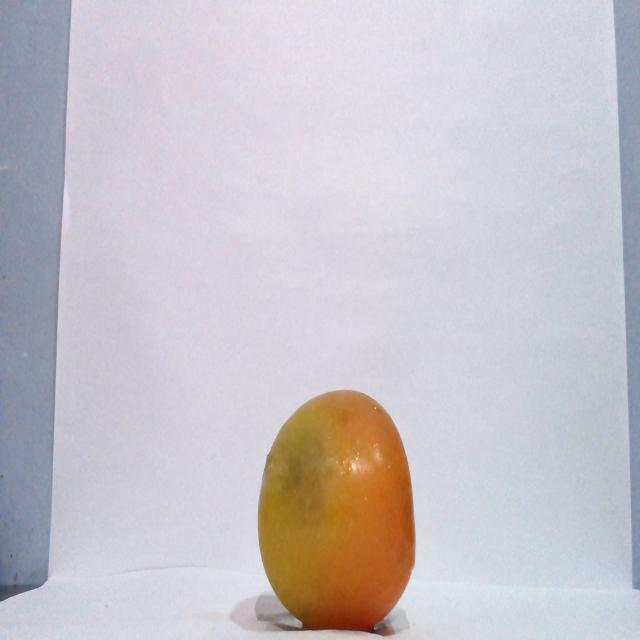Red: (256, 387, 416, 632)
